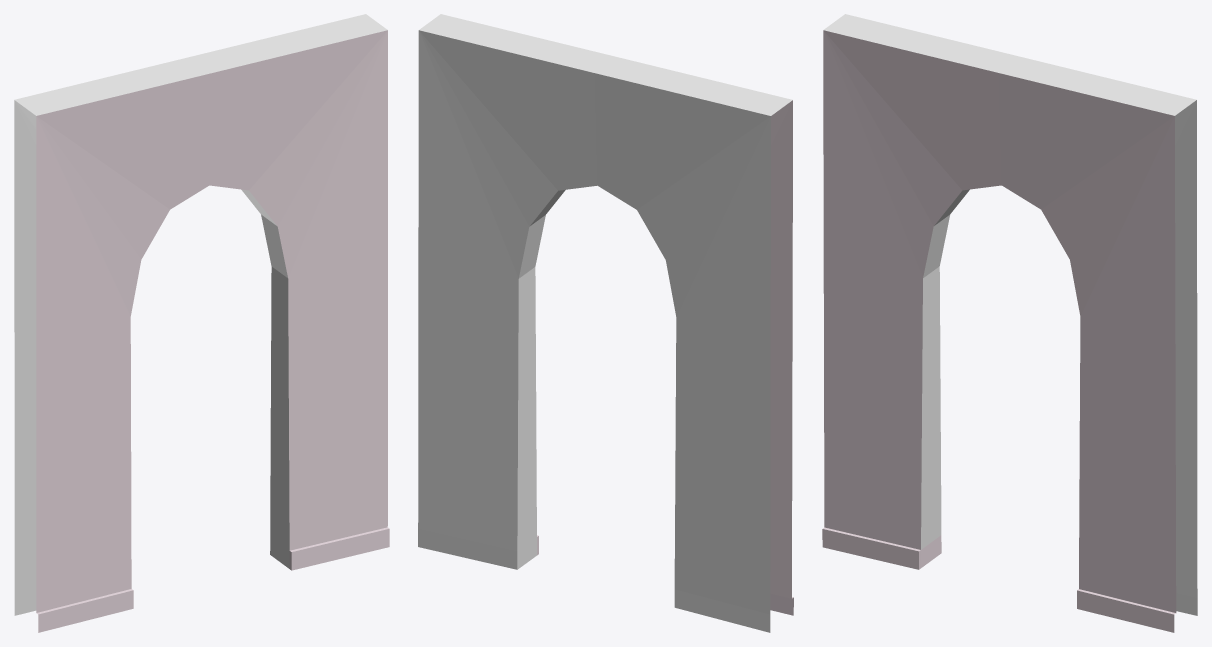
Rendered from env_wall_arc_2m_ext.fbx.
3 renders of one model, left to right at view 1: azimuth 30°, elevation 25°; view 2: azimuth 150°, elevation 25°; view 3: azimuth 330°, elevation 25°, orthographic.
Parts seen in each view (by area): view 1: Casa pared arco Exterior.001; view 2: Casa pared arco Exterior.001; view 3: Casa pared arco Exterior.001.
Part boxes in pixels (x1,y1,x2,y2): Casa pared arco Exterior.001: (14,14,389,632); Casa pared arco Exterior.001: (418,14,793,632); Casa pared arco Exterior.001: (822,14,1197,632).
Size of the model in its own units: 200 by 280 by 23.
2 materials, 2 textured.
